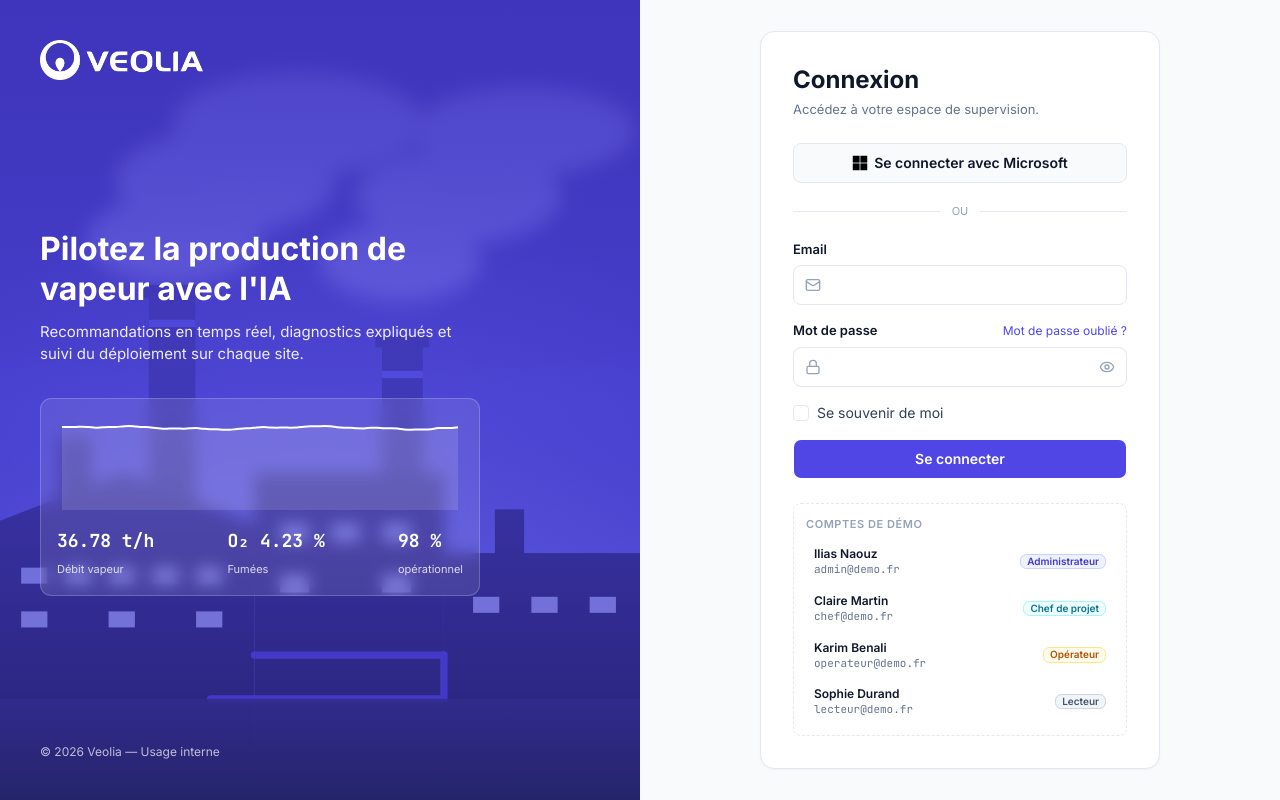
it: authentification › signale un compte désactivé
Type "pfontaine@demo.fr" into the field labelled "Email".
click(960, 285); type("pfontaine@demo.fr")  # box [793,265,1127,305]
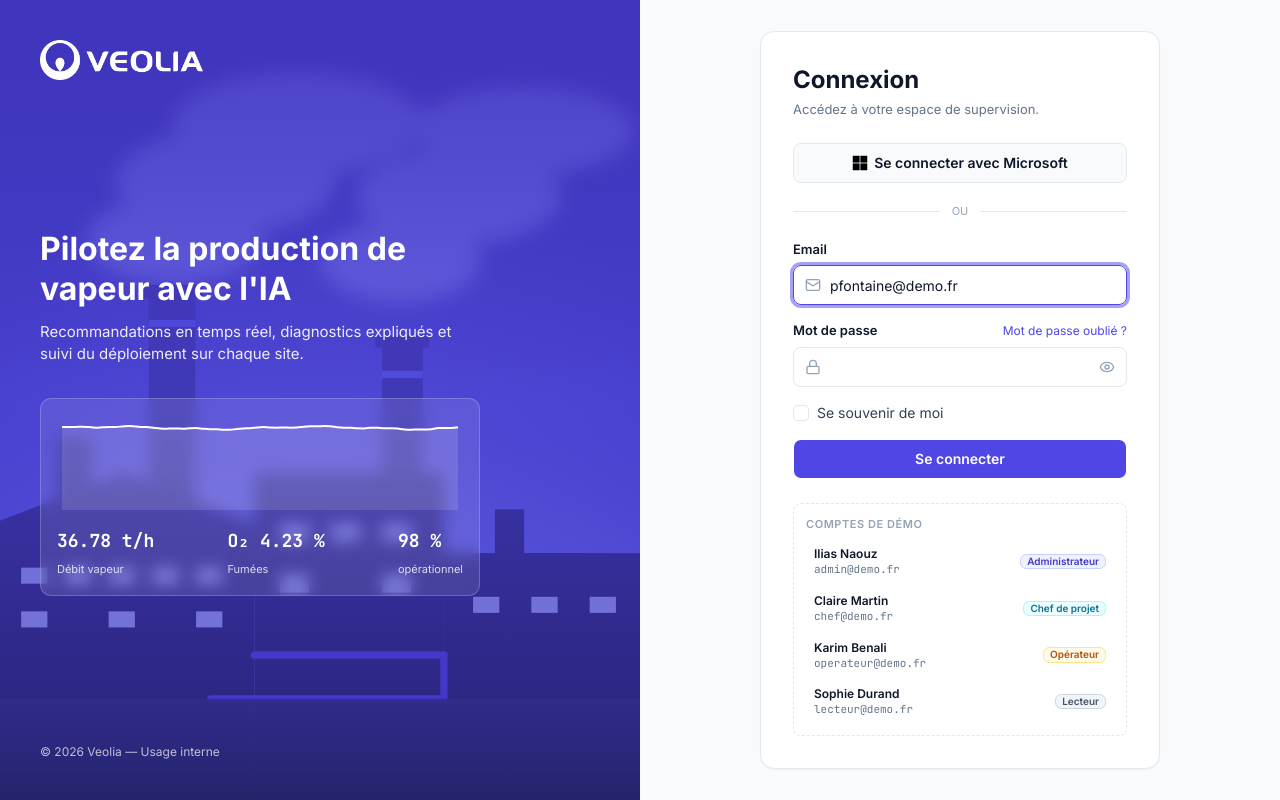
Type "demo1234" into the password field labelled "Mot de passe".
click(960, 367); type("demo1234")  # box [793,347,1127,387]
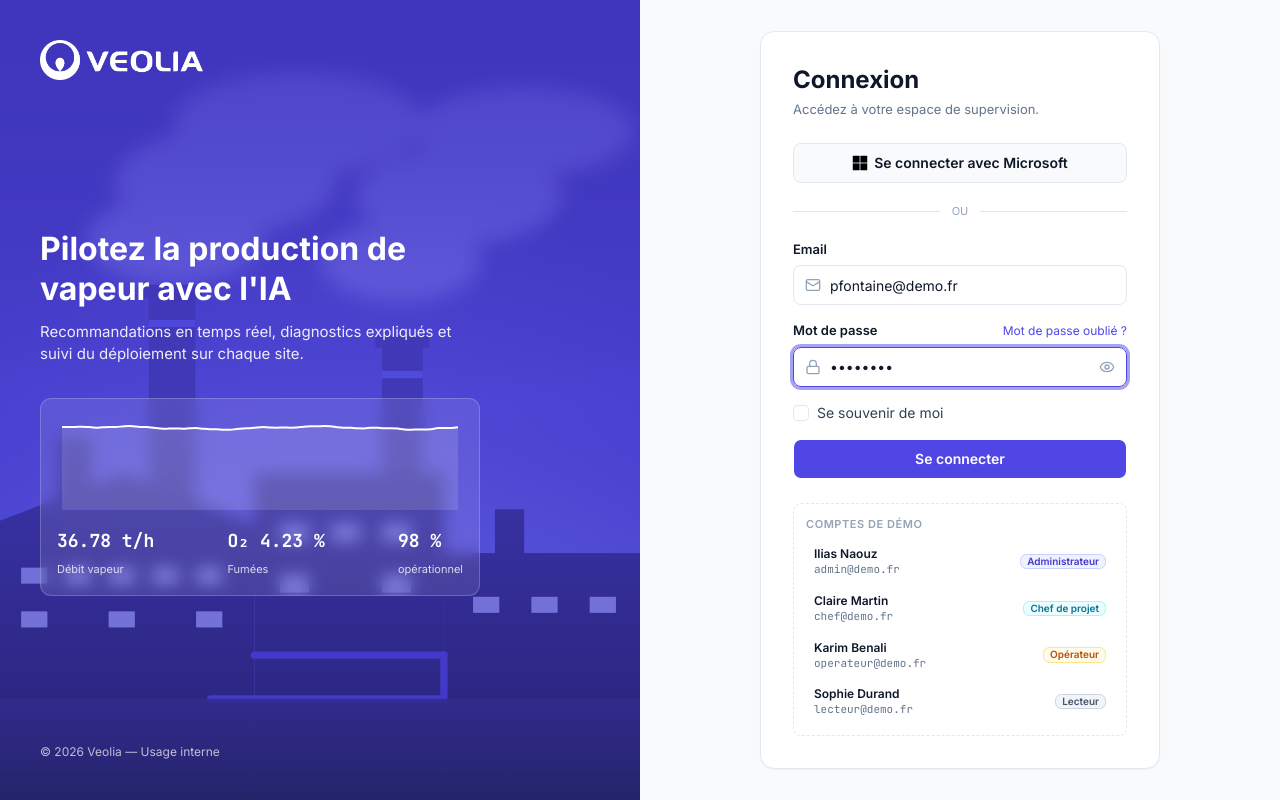
Click the button "Se connecter".
click(960, 459)  # box [793,439,1127,479]
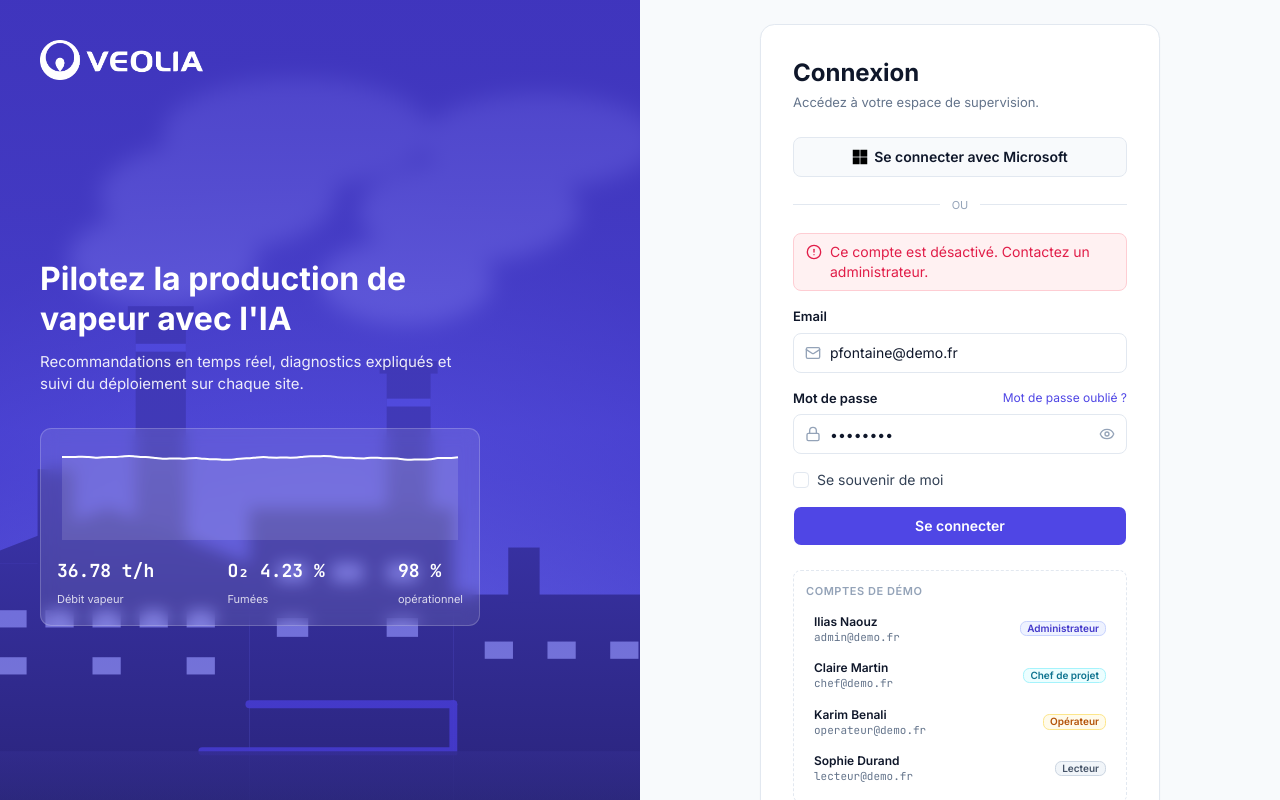
Expected: the message reads "Ce compte est désactivé. Contactez un administrateur.", [830,243,1090,280]
